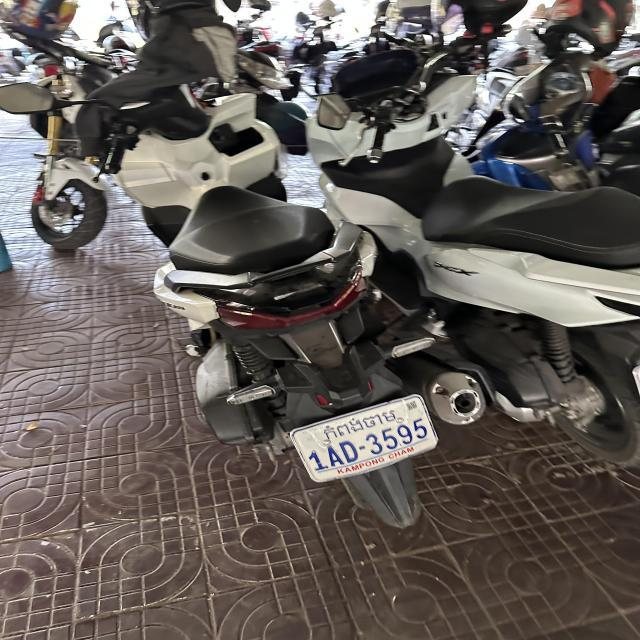Kampong_Cham: (322, 409, 396, 441)
